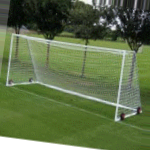goals: (5, 32, 141, 125)
